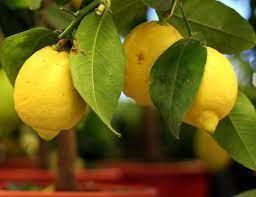lemon: (14, 44, 88, 142), (122, 18, 184, 106), (181, 44, 237, 136)
